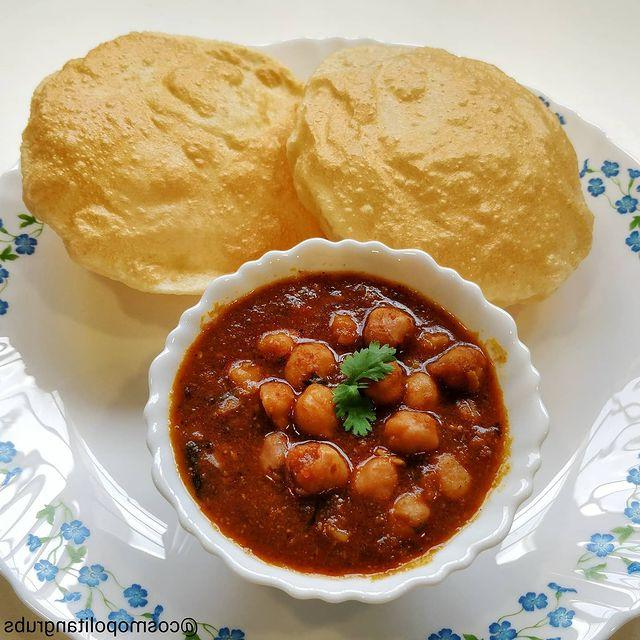Chole: (244, 302, 502, 558)
